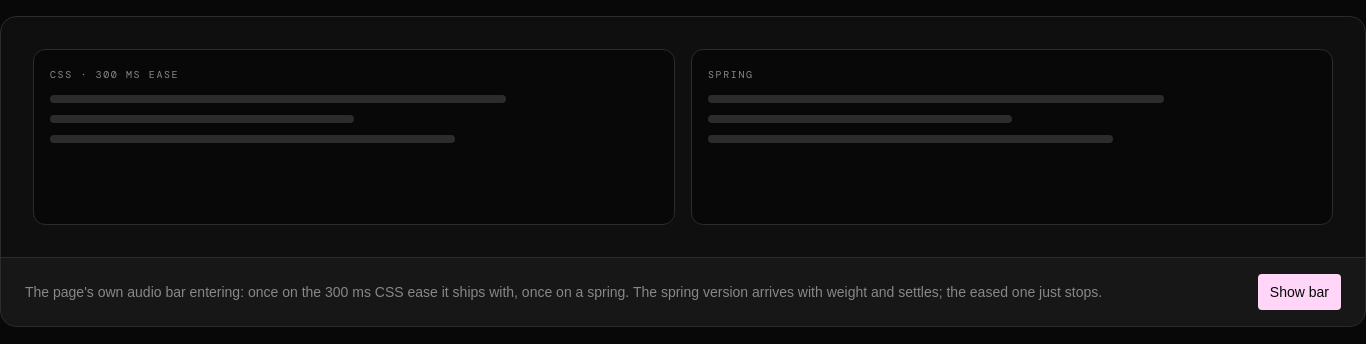
Test: Fluid-interfaces demos › shows and hides the audio bar
This screenshot has width=1366, height=344.
Click the button "Show bar" at {"x": 1299, "y": 292}, box [1258, 274, 1341, 310]
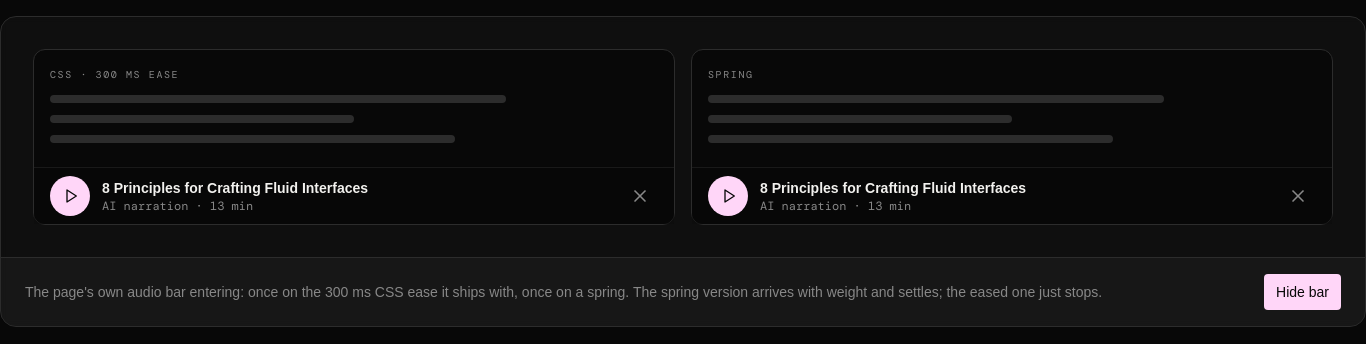
Check: the button "Hide bar" is shown, box [1264, 274, 1341, 310]
